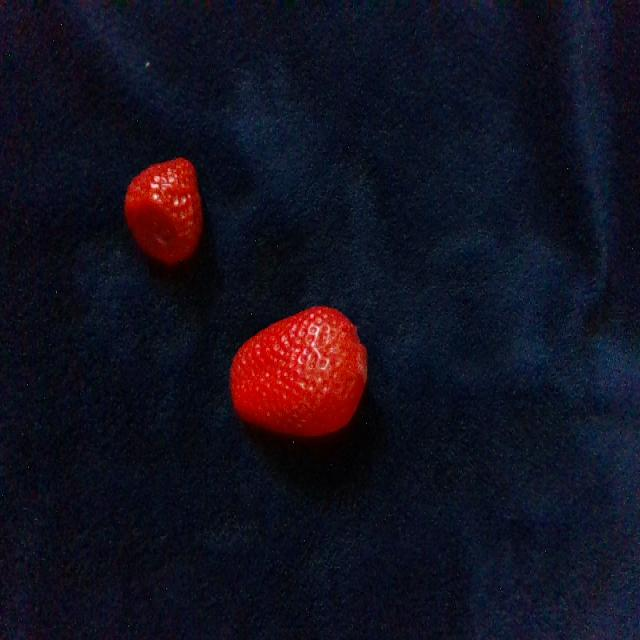chica_roja: (126, 157, 203, 264)
grande_roja: (231, 307, 367, 436)
